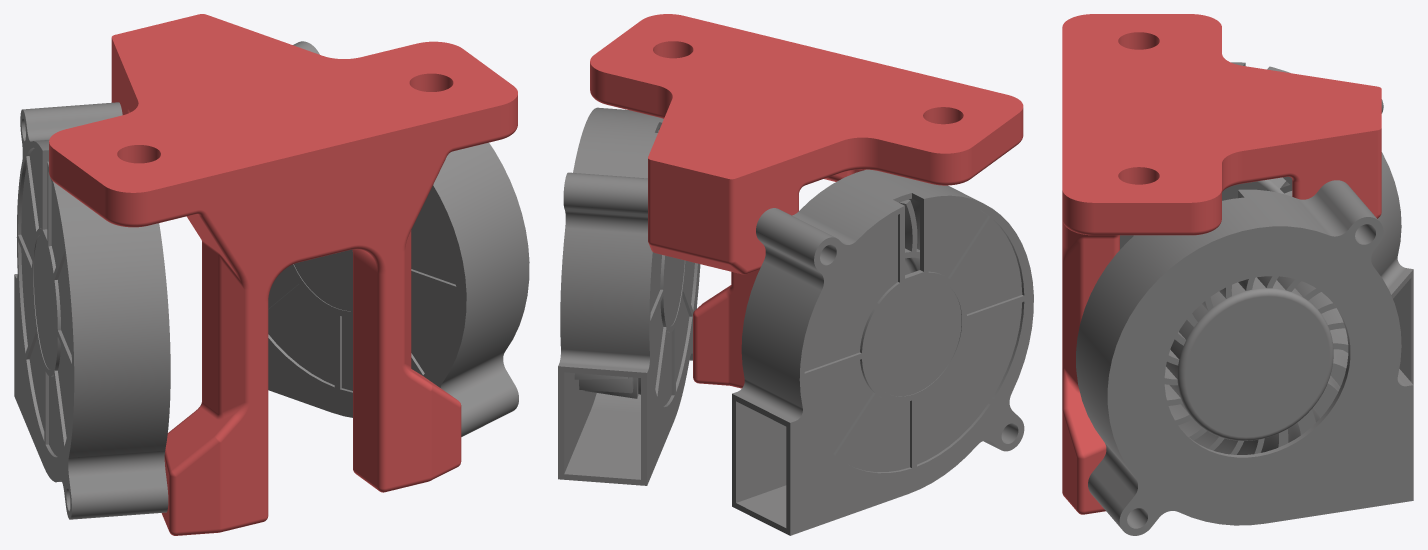
Rendered from CoolingSubassembly.fbx.
The picture shows the model from 3 angles, left to right: view 1: azimuth 30°, elevation 25°; view 2: azimuth 150°, elevation 25°; view 3: azimuth 270°, elevation 25°; orthographic projection. The views are drawn at different scales.
Visible parts, largest first — view 1: Part 1, Fan 40mm v2.001, Fan 40mm v2; view 2: Fan 40mm v2.001, Part 1, Fan 40mm v2, Component1, Component1.001; view 3: Fan 40mm v2, Part 1, Component1, Fan 40mm v2.001, Component1.001.
Part boxes in pixels (x1,y1,x2,y2): Part 1: (49,14,517,535); Fan 40mm v2.001: (14,102,170,519); Fan 40mm v2: (268,41,529,436); Fan 40mm v2.001: (732,169,1033,535); Part 1: (590,14,1023,388); Fan 40mm v2: (558,107,700,485); Component1: (574,130,658,398); Component1.001: (899,198,919,274); Fan 40mm v2: (1076,180,1413,535); Part 1: (1062,14,1381,514); Component1: (1164,276,1348,454); Fan 40mm v2.001: (1120,62,1413,384); Component1.001: (1222,177,1292,200).
Bounding box in the file's own units: 7.79 × 5.9 × 5.5.
